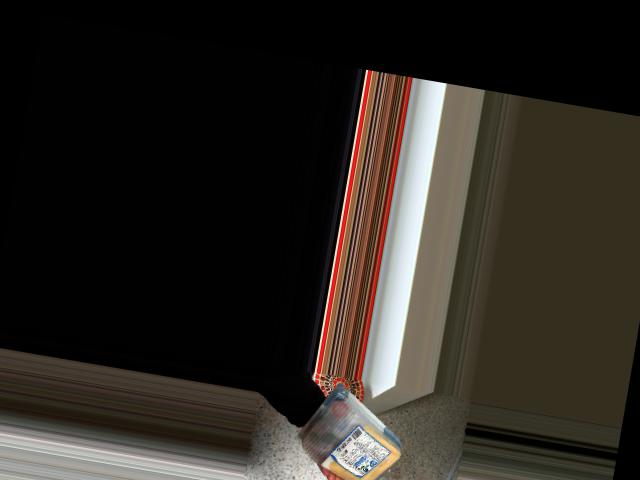cheese: (300, 394, 407, 480)
